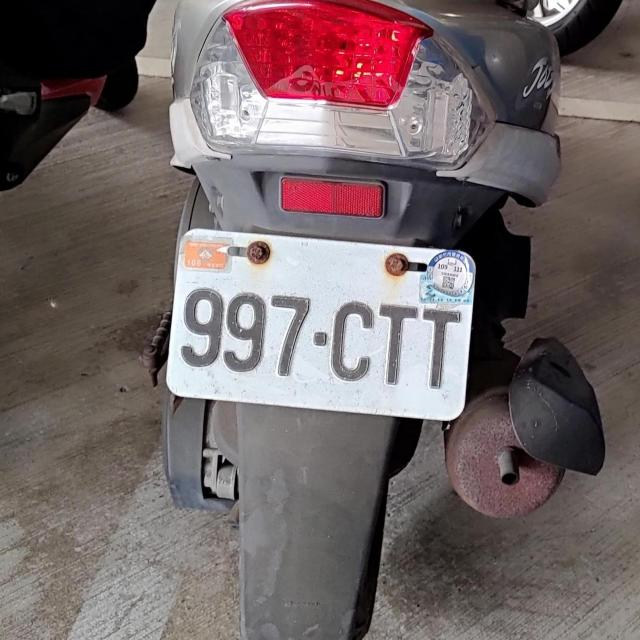W: (163, 226, 483, 422)
